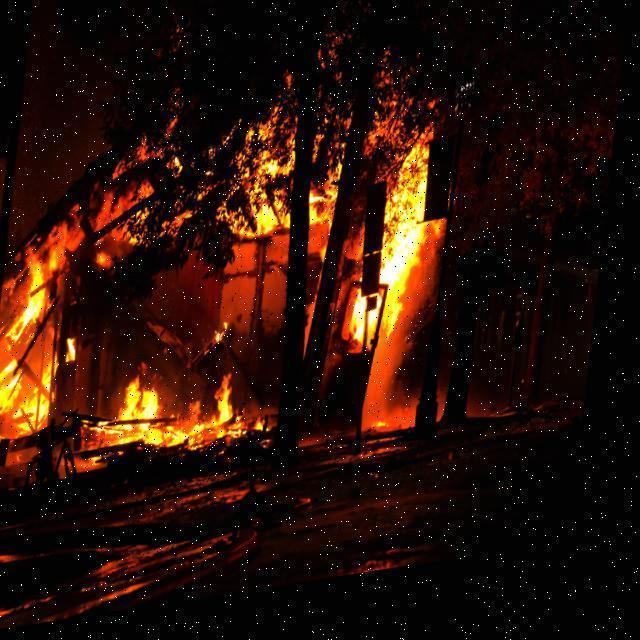Fire: (0, 0, 523, 516)
